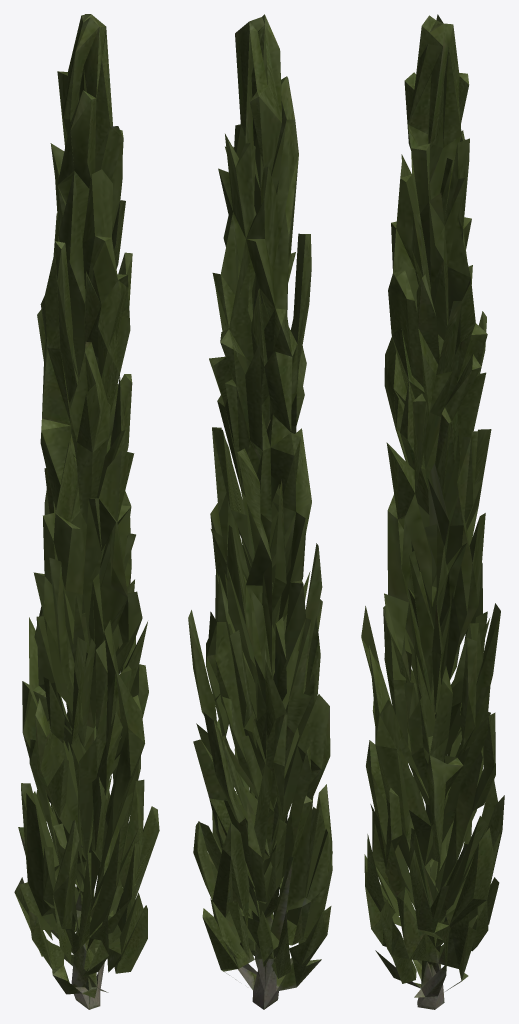
Rendered from italian-cypress.glb.
3 renders of one model, left to right at view 1: azimuth 30°, elevation 25°; view 2: azimuth 150°, elevation 25°; view 3: azimuth 270°, elevation 25°, orthographic.
Parts seen in each view (by area): view 1: italian-cypress; view 2: italian-cypress; view 3: italian-cypress.
Boxes of the visible parts, bbox=[...] form: italian-cypress: bbox=[14, 14, 159, 1009]; italian-cypress: bbox=[188, 14, 332, 1009]; italian-cypress: bbox=[361, 14, 504, 1009].
Size of the model in its own units: 1.32 by 10 by 1.31.
1 material, 1 textured.
